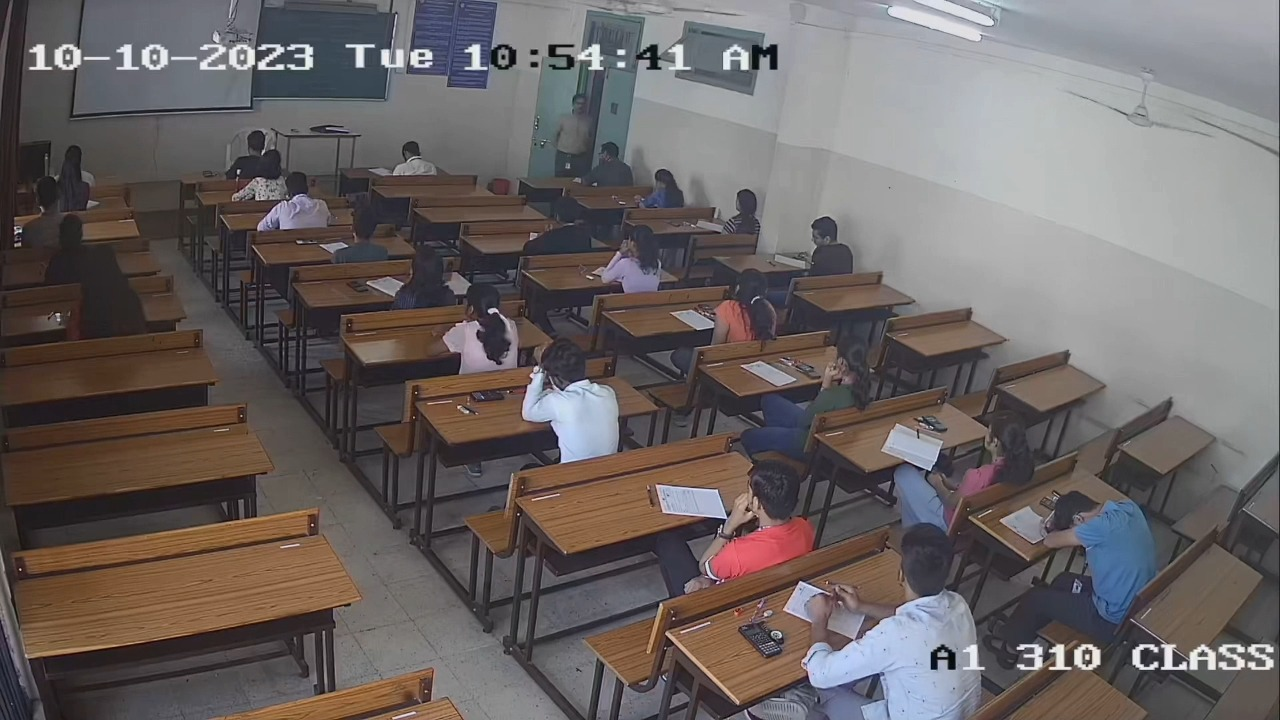cell-phones: (734, 622, 786, 661), (793, 360, 822, 380), (469, 388, 503, 404), (924, 411, 947, 433), (345, 279, 368, 294)
person: (806, 522, 981, 720), (504, 337, 621, 466), (945, 409, 1035, 488), (798, 342, 871, 420), (383, 245, 461, 310)
